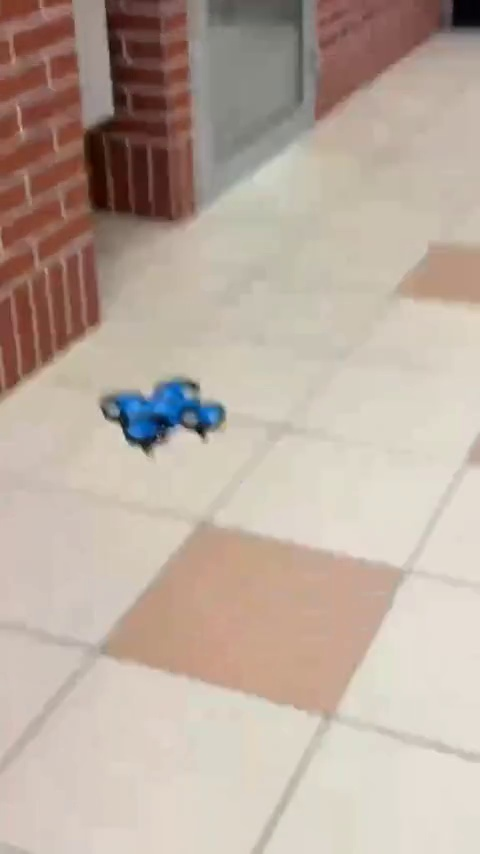drone: (101, 381, 219, 446)
